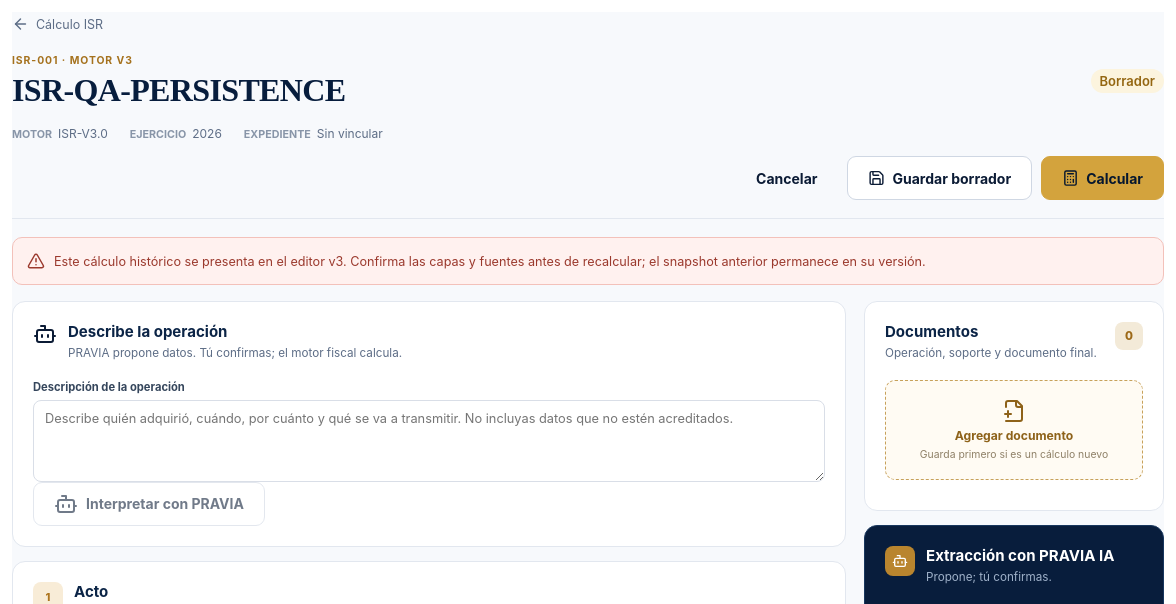
Scenario: ISR · save/requery response real sin relaciones › adaptar histórico no inventa título fiscal, acto ni participación (contexto=false)
Expected: the heading "ISR-QA-PERSISTENCE" is shown, [12,72,346,109]
Click the button "Guardar borrador" at (940, 178), box [848,156,1032,200]
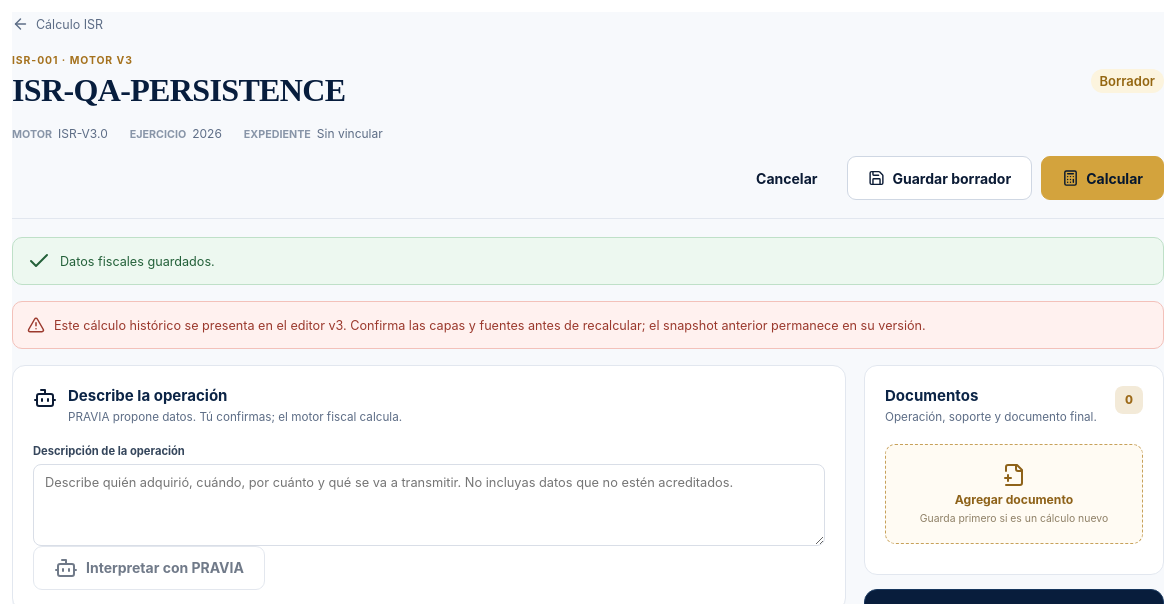
Result: the text "Datos fiscales guardados." is shown at [12,237,1164,285]
